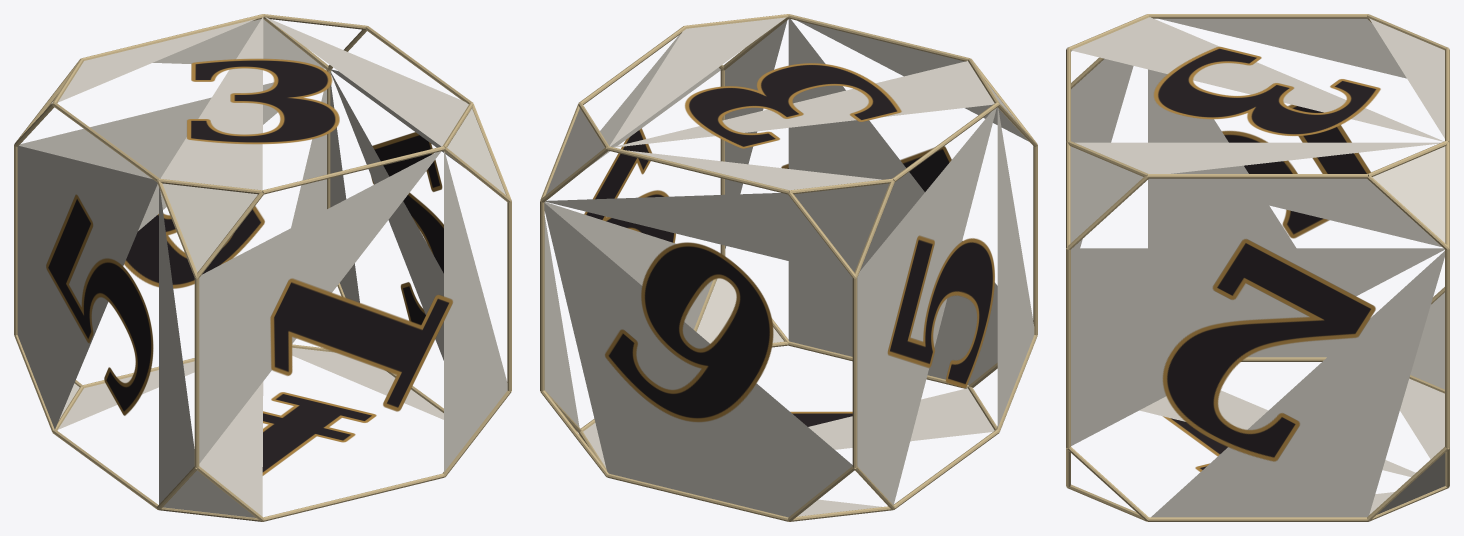
The picture shows the model from 3 angles, left to right: view 1: azimuth 30°, elevation 25°; view 2: azimuth 150°, elevation 25°; view 3: azimuth 270°, elevation 25°; orthographic projection. The views are drawn at different scales.
Parts seen in each view (by area): view 1: DiceBody, GoldEdgeTrim, FaceLabel_9_1, FaceLabel_8_5, FaceLabel_11_3, FaceLabel_10_4, FaceLabel_13_6, FaceLabel_12_2; view 2: DiceBody, GoldEdgeTrim, FaceLabel_13_6, FaceLabel_8_5, FaceLabel_11_3, FaceLabel_12_2, FaceLabel_9_1, FaceLabel_10_4; view 3: DiceBody, FaceLabel_12_2, GoldEdgeTrim, FaceLabel_11_3, FaceLabel_8_5, FaceLabel_10_4.
Part boxes in pixels (x1,y1,x2,y2): DiceBody: [17, 17, 507, 517]; GoldEdgeTrim: [14, 14, 511, 521]; FaceLabel_9_1: [270, 278, 452, 411]; FaceLabel_8_5: [46, 194, 153, 415]; FaceLabel_11_3: [187, 58, 339, 144]; FaceLabel_10_4: [262, 392, 376, 475]; FaceLabel_13_6: [124, 206, 264, 288]; FaceLabel_12_2: [371, 132, 443, 325]; DiceBody: [544, 17, 1034, 517]; GoldEdgeTrim: [540, 14, 1037, 521]; FaceLabel_13_6: [605, 242, 773, 422]; FaceLabel_8_5: [887, 235, 994, 388]; FaceLabel_11_3: [685, 63, 901, 148]; FaceLabel_12_2: [584, 128, 675, 242]; FaceLabel_9_1: [781, 146, 951, 191]; FaceLabel_10_4: [790, 411, 852, 426]; DiceBody: [1070, 17, 1445, 517]; FaceLabel_12_2: [1162, 239, 1375, 461]; GoldEdgeTrim: [1066, 14, 1449, 521]; FaceLabel_11_3: [1153, 46, 1380, 135]; FaceLabel_8_5: [1222, 104, 1370, 238]; FaceLabel_10_4: [1163, 416, 1227, 471].
Bounding box in the file's own units: 1.33 × 1.33 × 1.33.
6 materials, 6 textured.
